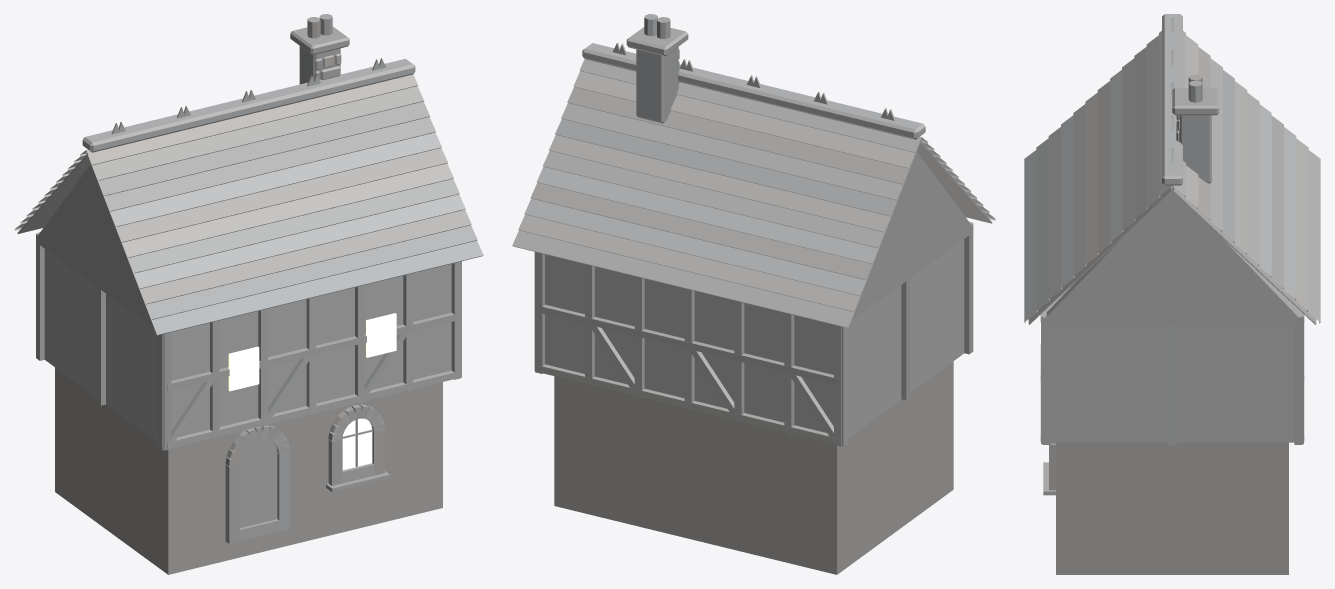
Rendered from house.glb.
3 renders of one model, left to right at view 1: azimuth 30°, elevation 25°; view 2: azimuth 150°, elevation 25°; view 3: azimuth 270°, elevation 25°, orthographic. The views are drawn at different scales.
Parts seen in each view (by area): view 1: SM_FK_house; view 2: SM_FK_house; view 3: SM_FK_house.
Part boxes in pixels (x1=…): SM_FK_house: x1=14, y1=14, x2=483, y2=574; SM_FK_house: x1=512, y1=14, x2=995, y2=574; SM_FK_house: x1=1024, y1=14, x2=1320, y2=574.
Bounding box in the file's own units: 16.6 × 22.1 × 12.72.
